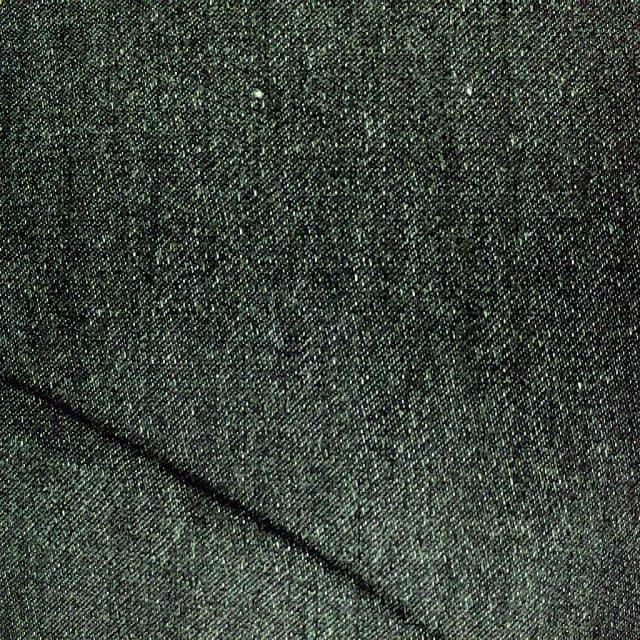defect: (0, 366, 441, 640)
